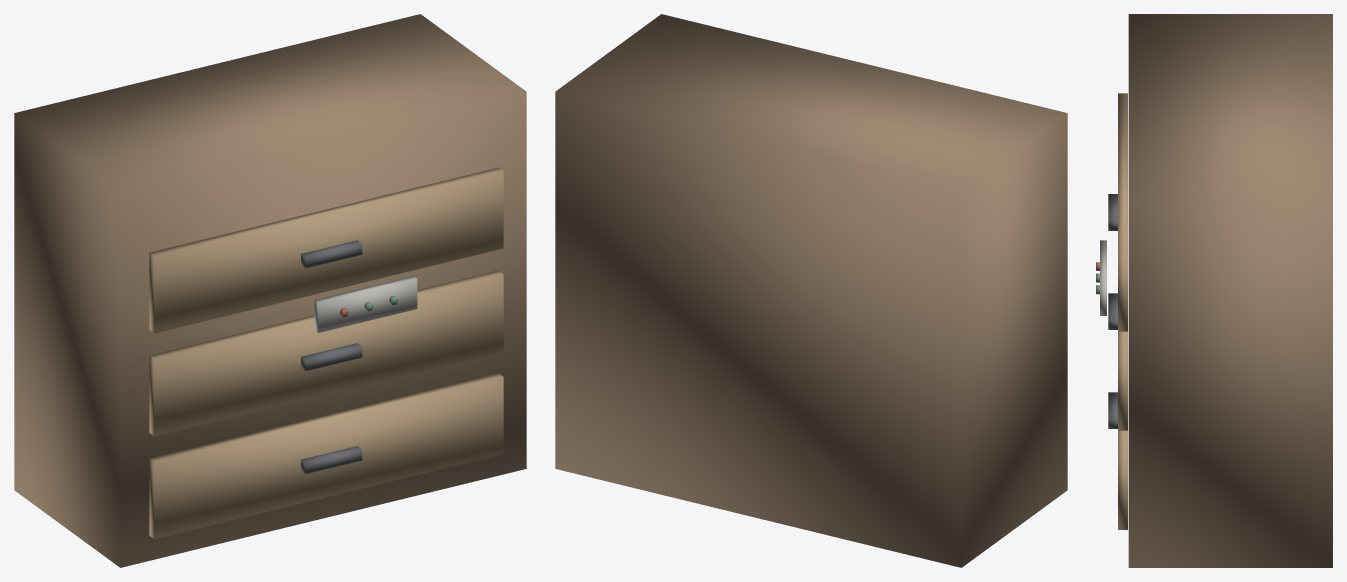
Rendered from residential_dresser__tall.glb.
The picture shows the model from 3 angles, left to right: view 1: azimuth 30°, elevation 25°; view 2: azimuth 150°, elevation 25°; view 3: azimuth 270°, elevation 25°; orthographic projection. The views are drawn at different scales.
Parts seen in each view (by area): view 1: world; view 2: world; view 3: world.
Part boxes in pixels (box(x1,y1,x2,y2)): world: box(14, 14, 526, 567); world: box(555, 14, 1067, 567); world: box(1096, 14, 1332, 567).
Bounding box in the file's own units: 1.15 × 1.02 × 0.6035.
